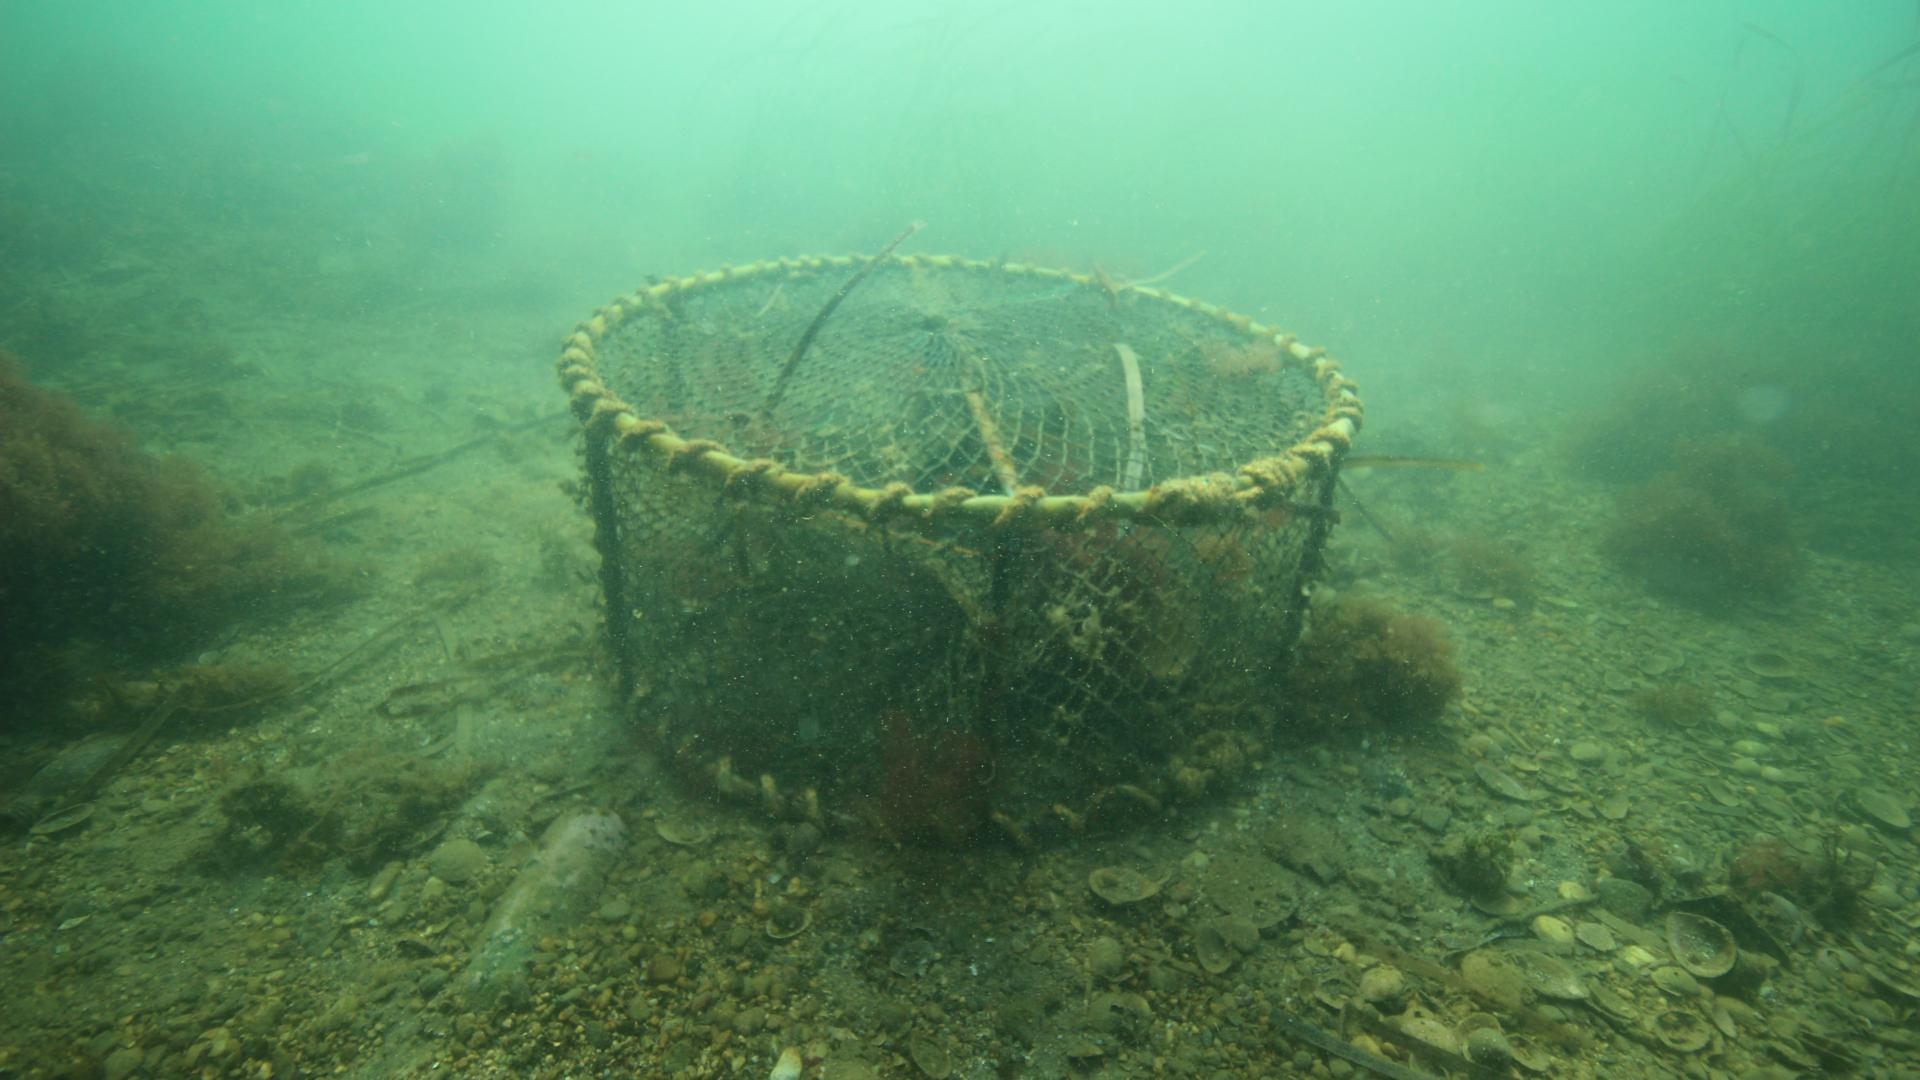circular fish trap: (555, 247, 1364, 847)
